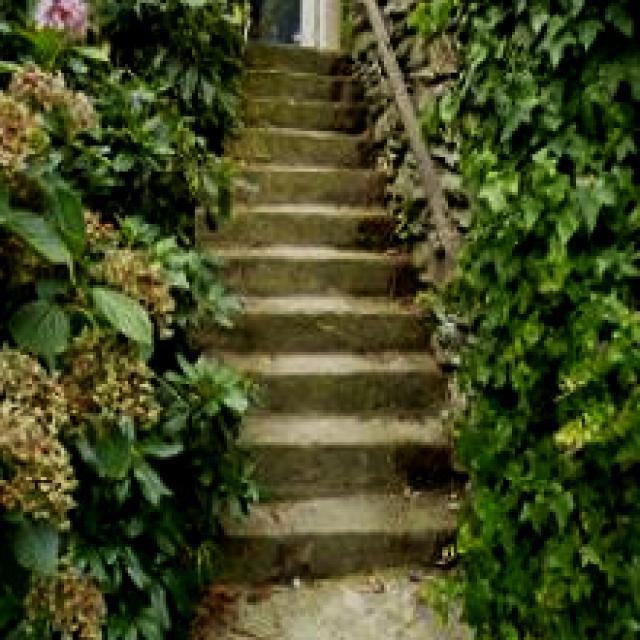upstair: (196, 199, 481, 548)
